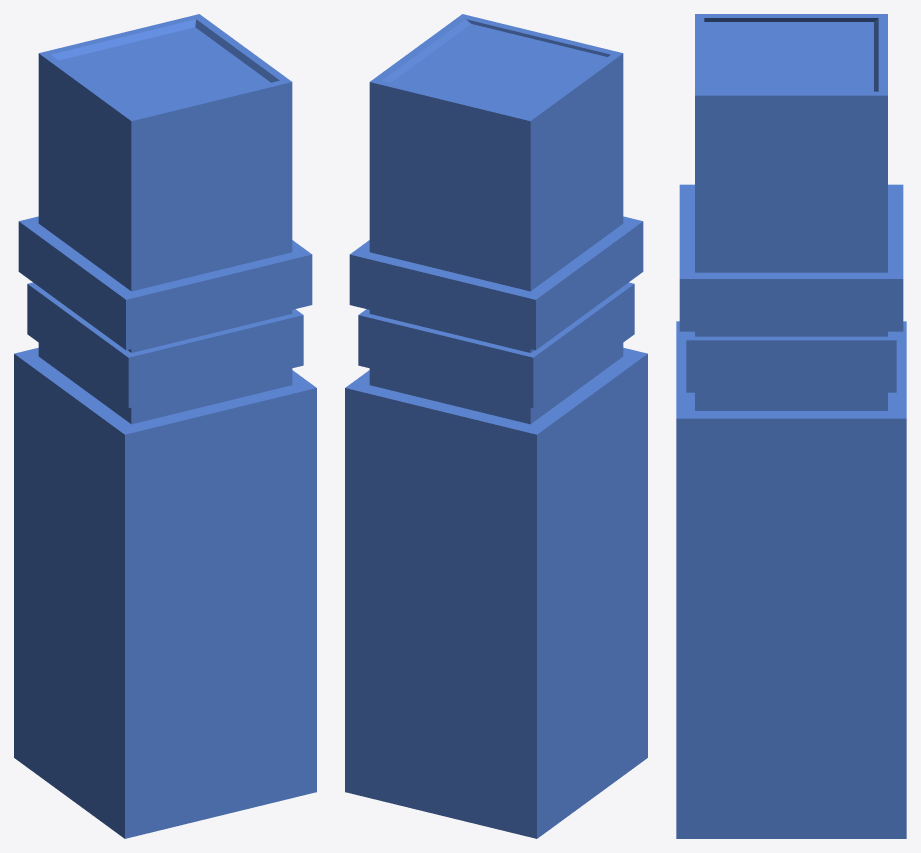
The model's file is Building8_blue.fbx.
The picture shows the model from 3 angles, left to right: view 1: azimuth 30°, elevation 25°; view 2: azimuth 150°, elevation 25°; view 3: azimuth 270°, elevation 25°; orthographic projection. The views are drawn at different scales.
Visible parts, largest first — view 1: Building 8; view 2: Building 8; view 3: Building 8.
Part boxes in pixels (x1=…): Building 8: x1=14, y1=14, x2=316, y2=838; Building 8: x1=345, y1=14, x2=647, y2=838; Building 8: x1=676, y1=14, x2=906, y2=838.
Bounding box in the file's own units: 1195 × 4206 × 1195.
Materials: 1 (1 with a texture image).
